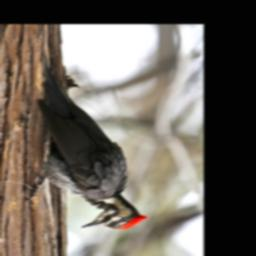Woodpecker: (24, 54, 149, 230)
